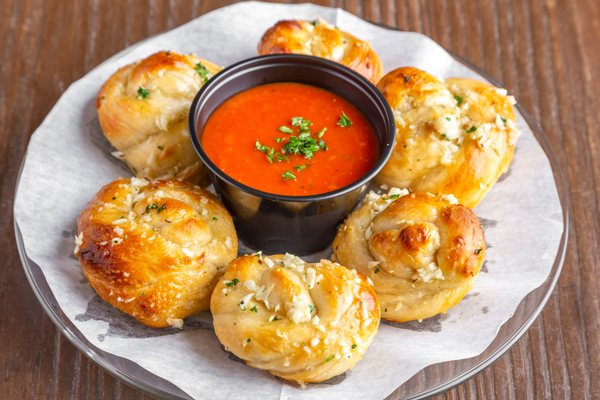sushi: (189, 53, 397, 257)
